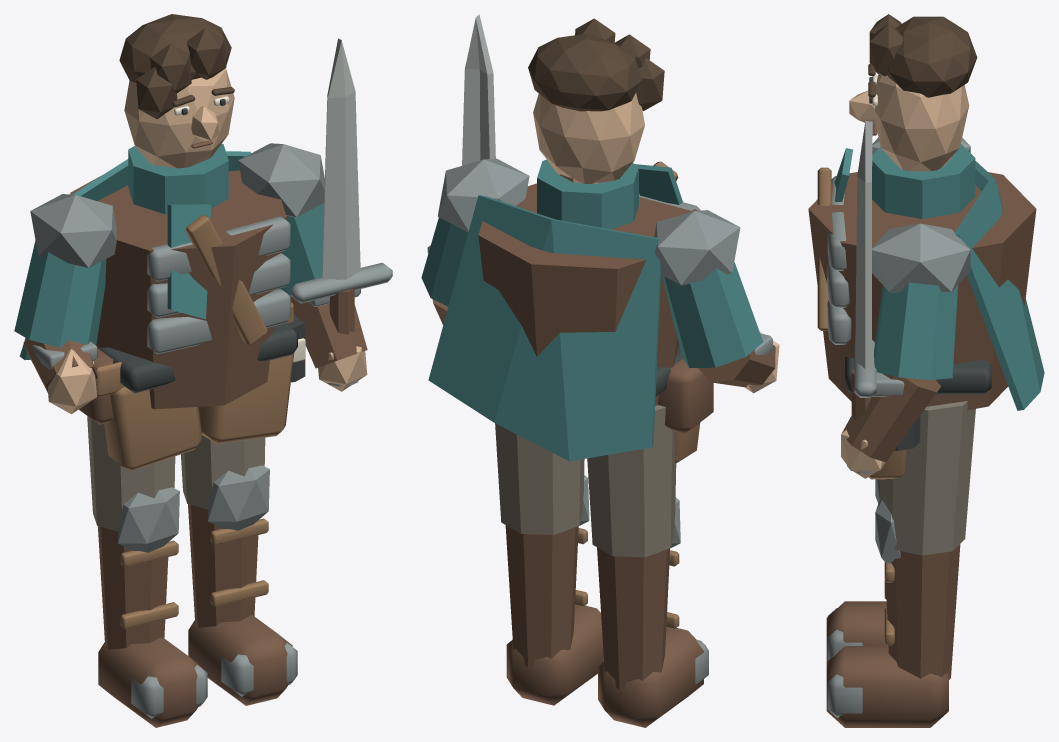
File: model_player.glb
3 renders of one model, left to right at view 1: azimuth 30°, elevation 25°; view 2: azimuth 150°, elevation 25°; view 3: azimuth 270°, elevation 25°, orthographic.
Parts seen in each view (by area): view 1: coat torso, tapered steel blade, upper sleeve, head, boot toe, overlapping leather tasset, boot toe.001, shin leather boot.001, shin leather boot, shoulder guard, scarf collar, overlapping leather tasset.001 (+36 smaller); view 2: short travel cloak, coat torso, trouser upper leg, shin leather boot.001, shin leather boot, trouser upper leg.001, head, upper sleeve, swept dark hair, boot toe, boot toe.001, shoulder guard (+10 smaller); view 3: coat torso, trouser upper leg.001, shin leather boot.001, short travel cloak, upper sleeve.001, boot toe.001, head, swept dark hair, shoulder guard.001, scarf collar, forearm leather bracer.001, tapered steel blade (+18 smaller).
Part boxes in pixels (x1,y1,x2,y2): coat torso: (70,170,286,409); tapered steel blade: (322,38,360,279); upper sleeve: (14,240,106,347); head: (124,68,234,168); boot toe: (98,637,202,727); overlapping leather tasset: (104,387,202,471); boot toe.001: (188,615,292,705); shin leather boot.001: (188,504,258,627); shin leather boot: (98,526,168,649); shoulder guard: (30,194,116,267); scarf collar: (128,143,228,214); overlapping leather tasset.001: (198,352,294,443); short travel cloak: (428,195,661,461); coat torso: (478,183,697,405); trouser upper leg: (587,405,676,557); shin leather boot.001: (505,525,578,667); shin leather boot: (597,547,669,689); trouser upper leg.001: (495,423,584,535); head: (533,93,644,183); upper sleeve: (662,262,762,367); swept dark hair: (528,33,641,111); boot toe: (598,627,703,727); boot toe.001: (506,605,603,705); shoulder guard: (654,210,740,285); coat torso: (808,172,1036,410); trouser upper leg.001: (879,401,975,555); shin leather boot.001: (885,544,960,679); short travel cloak: (954,161,1044,410); upper sleeve.001: (874,282,957,379); boot toe.001: (826,646,948,727); head: (874,73,969,171); swept dark hair: (887,16,977,97); shoulder guard.001: (872,223,970,292); scarf collar: (872,144,975,218); forearm leather bracer.001: (842,373,940,462); tapered steel blade: (855,121,872,369).
Size of the model in its own units: 0.9948 by 1.84 by 0.58.
